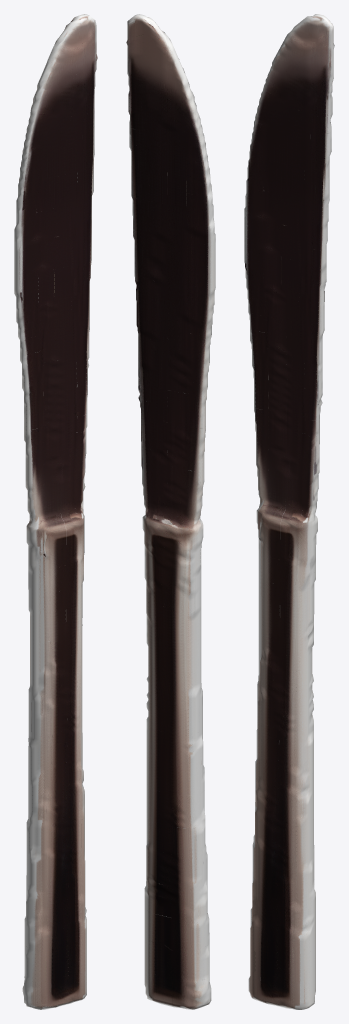
Rendered from Copper_Knife_0701033555_texture.glb.
The picture shows the model from 3 angles, left to right: view 1: azimuth 30°, elevation 25°; view 2: azimuth 150°, elevation 25°; view 3: azimuth 330°, elevation 25°; orthographic projection.
Parts seen in each view (by area): view 1: Mesh_0; view 2: Mesh_0; view 3: Mesh_0.
Boxes of the visible parts, x1,y1,x2,y2 form: Mesh_0: (14,14,97,1009); Mesh_0: (126,14,215,1009); Mesh_0: (244,14,334,1009).
Size of the model in its own units: 0.0106 by 0.12 by 0.00444.
1 material, 1 textured.
